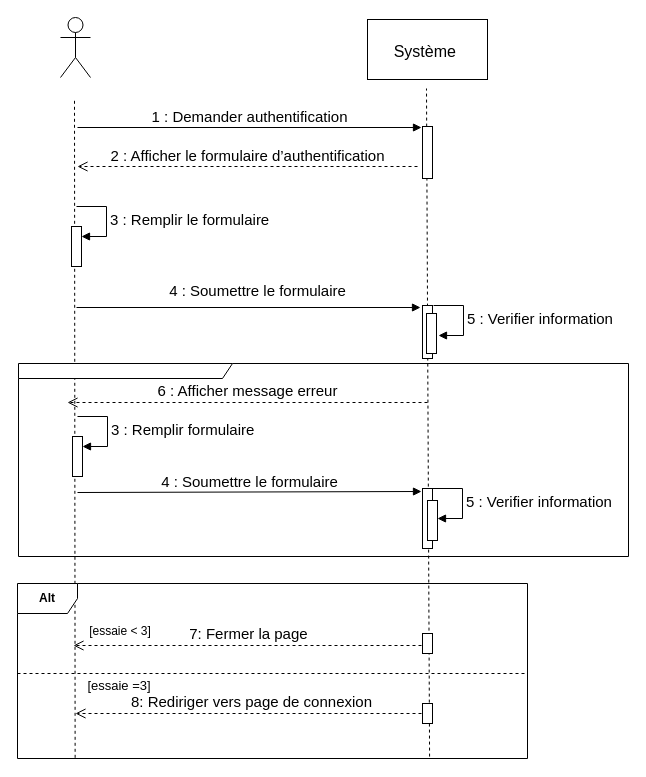
Some shapes in this 646 by 777 pixel diagram are drawn without their labels. Here are the shapes that lost their labels. From the top down, the centre of each, then its label:
At point 75,47: "Client".
At point 323,459: "Loop [infos incorrectes et essaie <3]".
